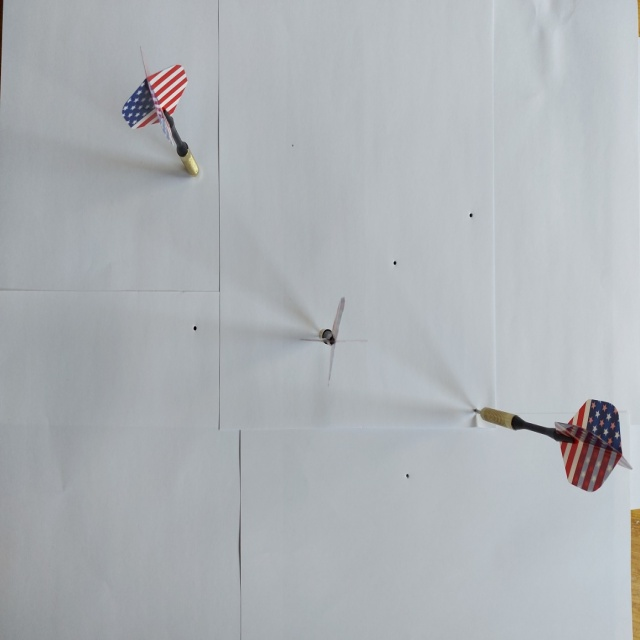Dart: (468, 395, 638, 494), (119, 44, 206, 185), (296, 293, 372, 387)
